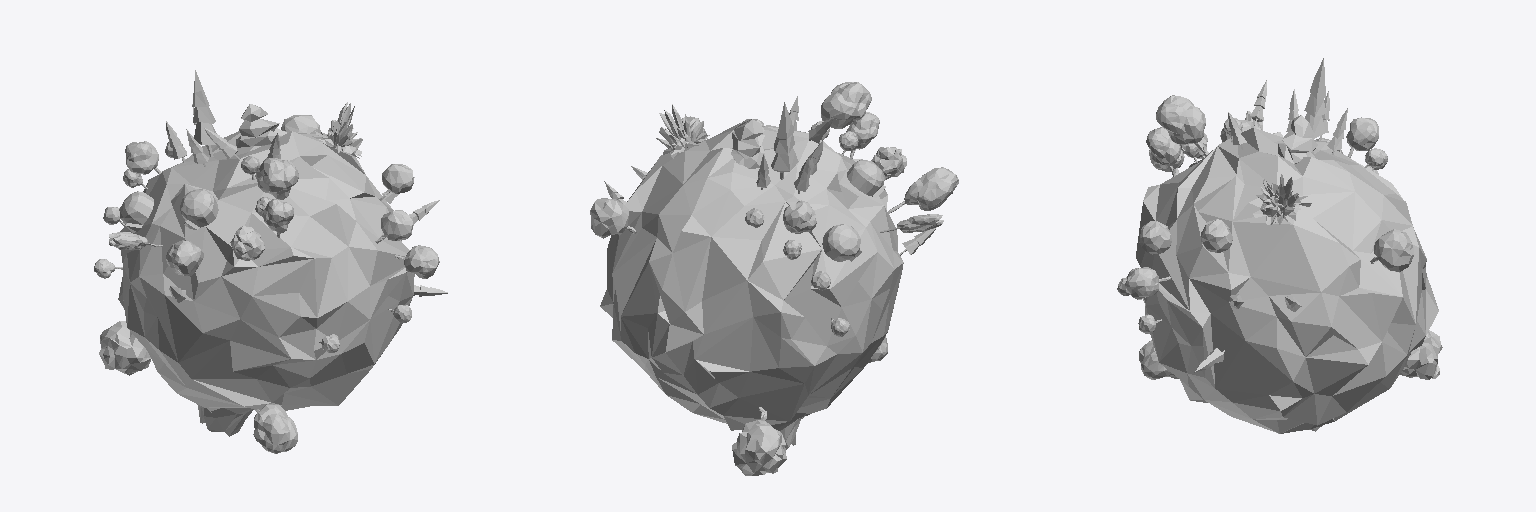
Rendered from Planet Forest.obj.
3 renders of one model, left to right at view 1: azimuth 30°, elevation 25°; view 2: azimuth 150°, elevation 25°; view 3: azimuth 270°, elevation 25°, orthographic.
Parts seen in each view (by area): view 1: GeoSphere015_Mesh.014; view 2: GeoSphere015_Mesh.014; view 3: GeoSphere015_Mesh.014.
Part boxes in pixels (x1,y1,x2,y2): GeoSphere015_Mesh.014: (94, 70, 447, 453); GeoSphere015_Mesh.014: (590, 82, 958, 475); GeoSphere015_Mesh.014: (1117, 58, 1442, 433).
Bounding box in the file's own units: 20.75 × 22.09 × 18.11.